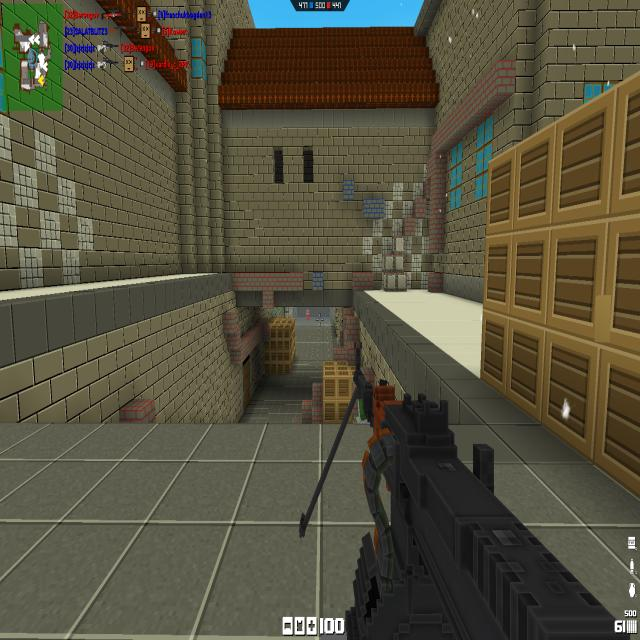player: (306, 308, 310, 321)
